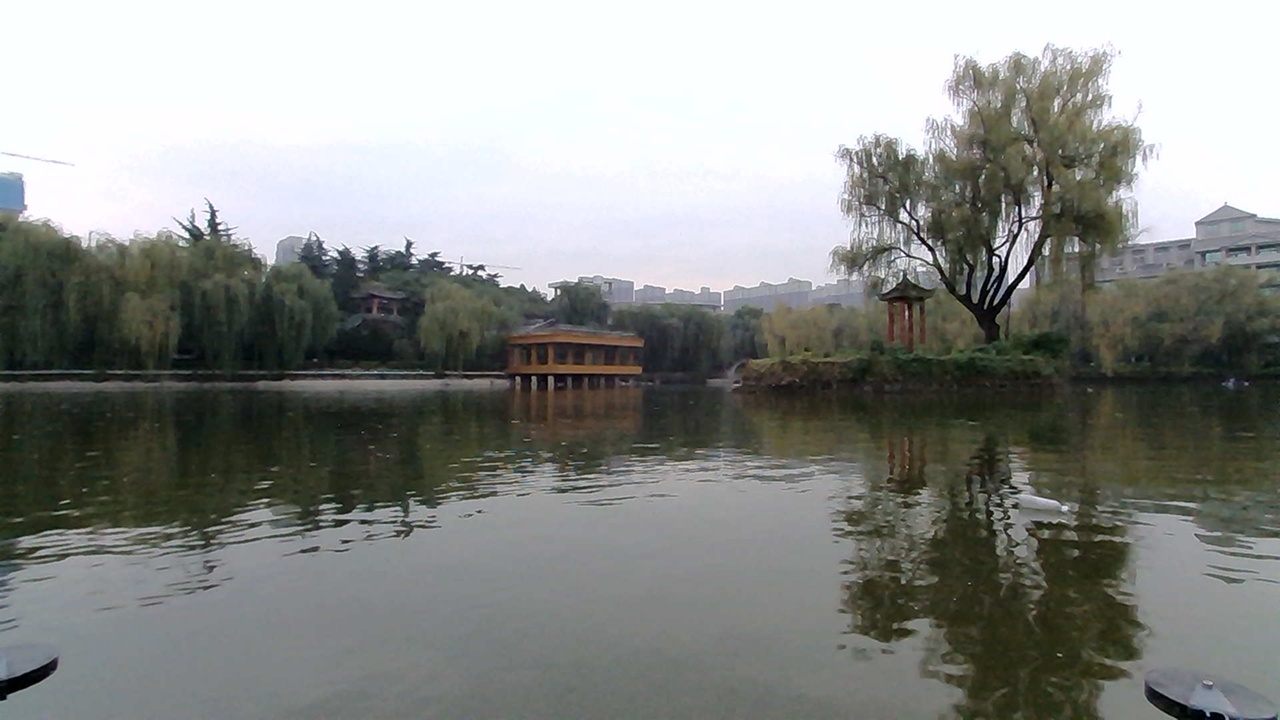bottle: (1010, 488, 1074, 521)
